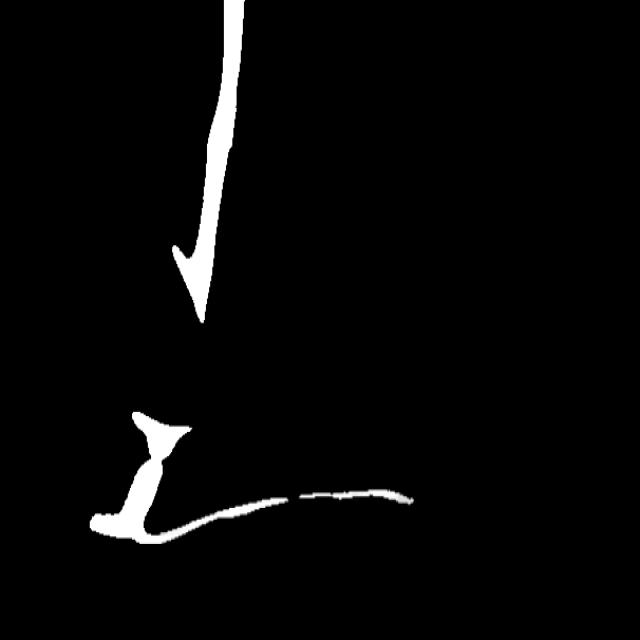sup: (281, 490, 307, 509)
